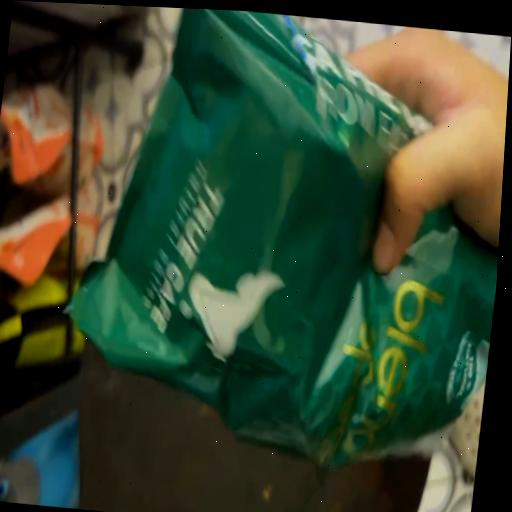cafe_xay: (71, 8, 499, 465)
